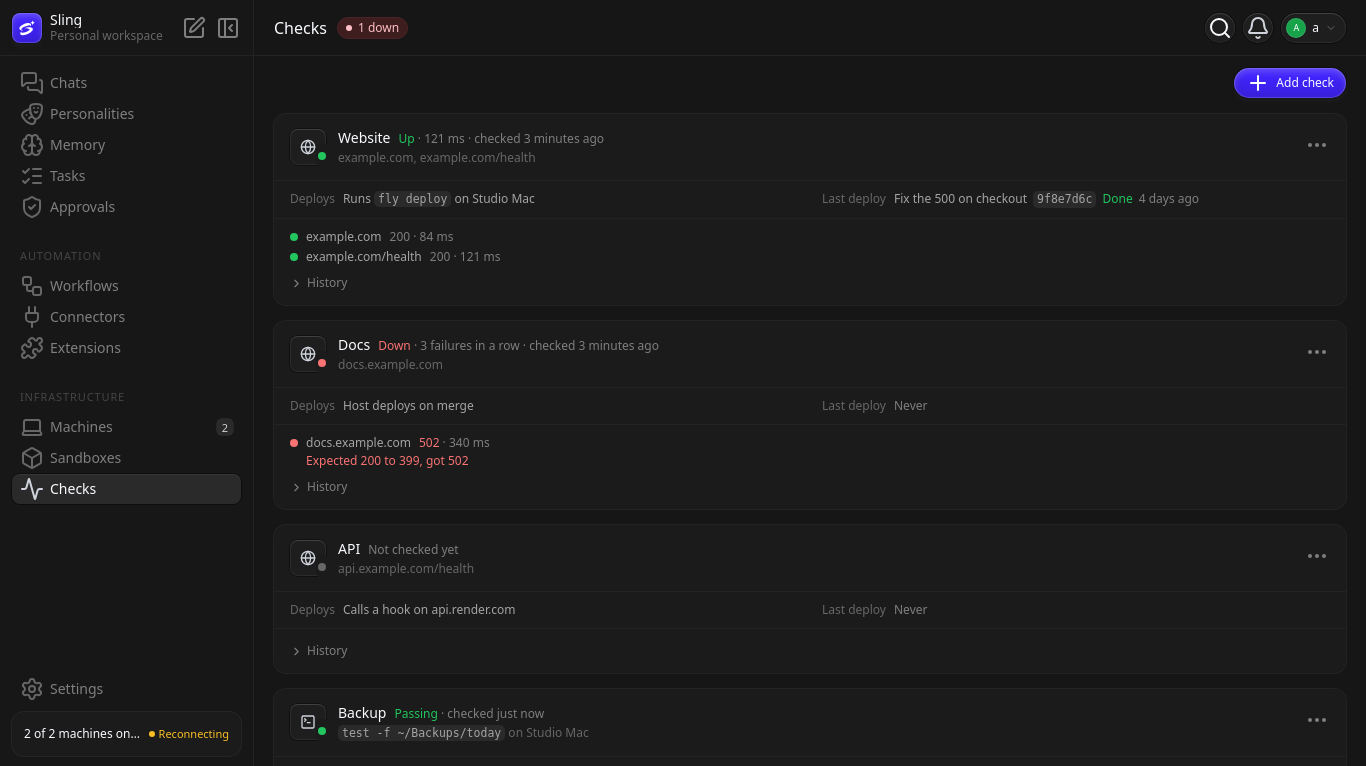
Scenario: checks page › pauses a check, and deletes one after asking
Click the button named "Backup actions" at (1317, 720), box [1304,708,1330,734]
(page scrolled)
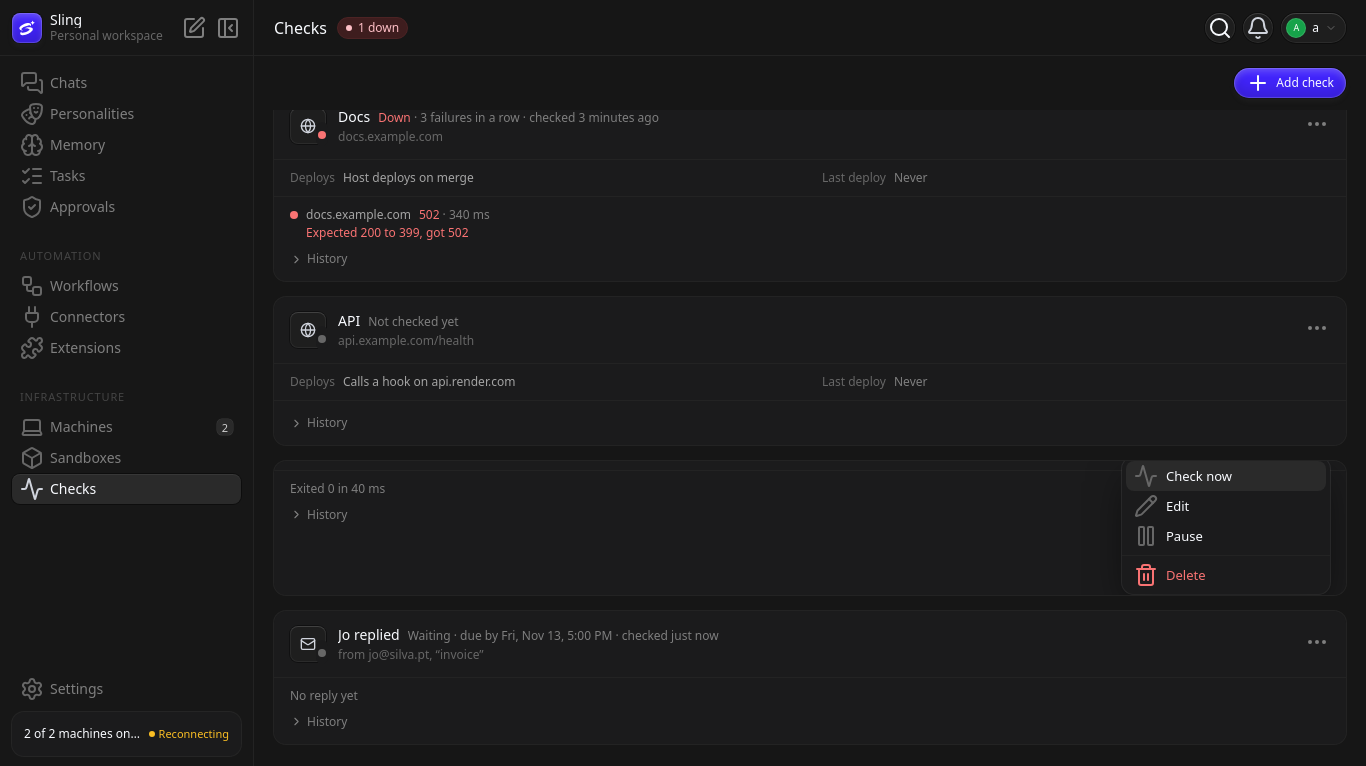
Click the menu item "Pause" at (1226, 536), box [1126,522,1326,552]
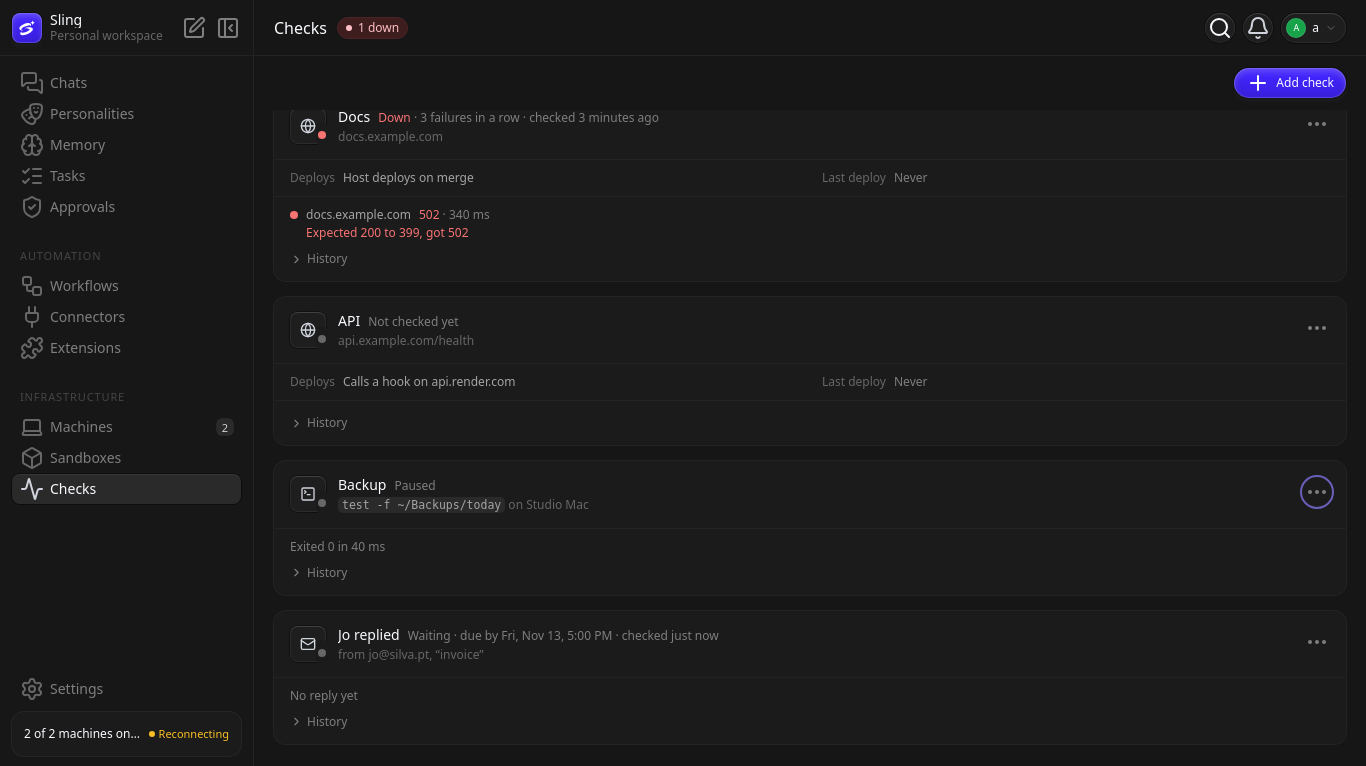
Now the text "Paused" is shown, box [394,478,436,494]
Click the button named "Docs actions" at (1317, 124), box [1304,111,1330,137]
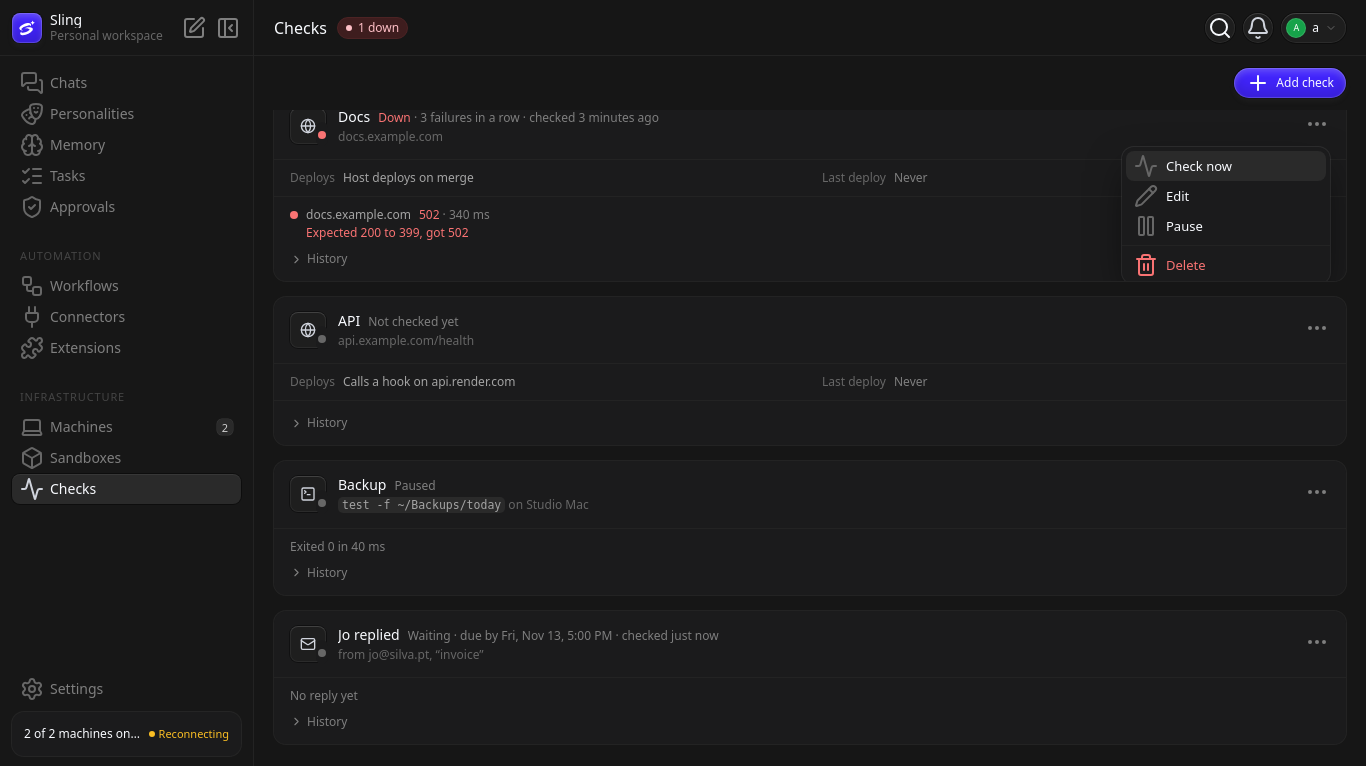
Click the menu item "Delete" at (1226, 265), box [1126,250,1326,280]
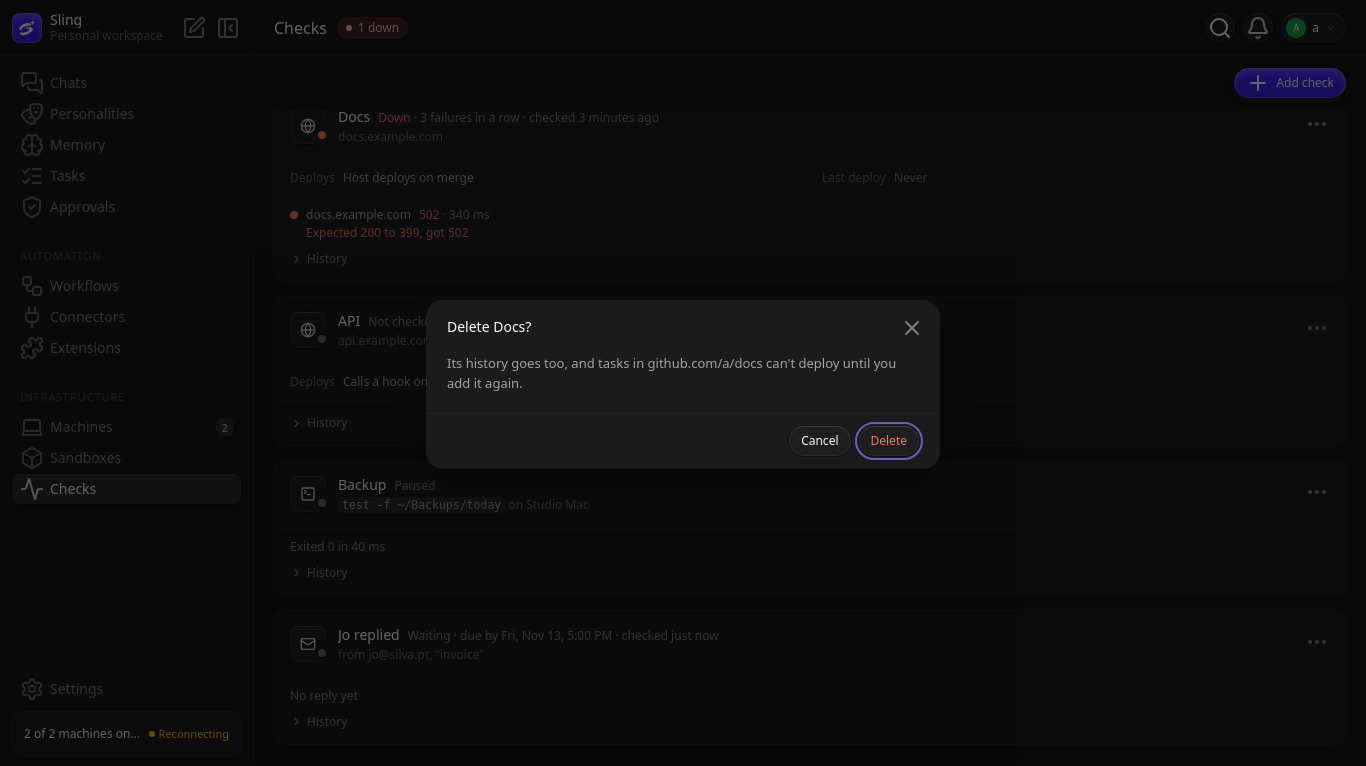
Now the text "tasks in github.com/a/docs can't deploy" is shown, box [447,354,896,392]
Click the button "Delete" at (889, 440), box [858,426,919,456]
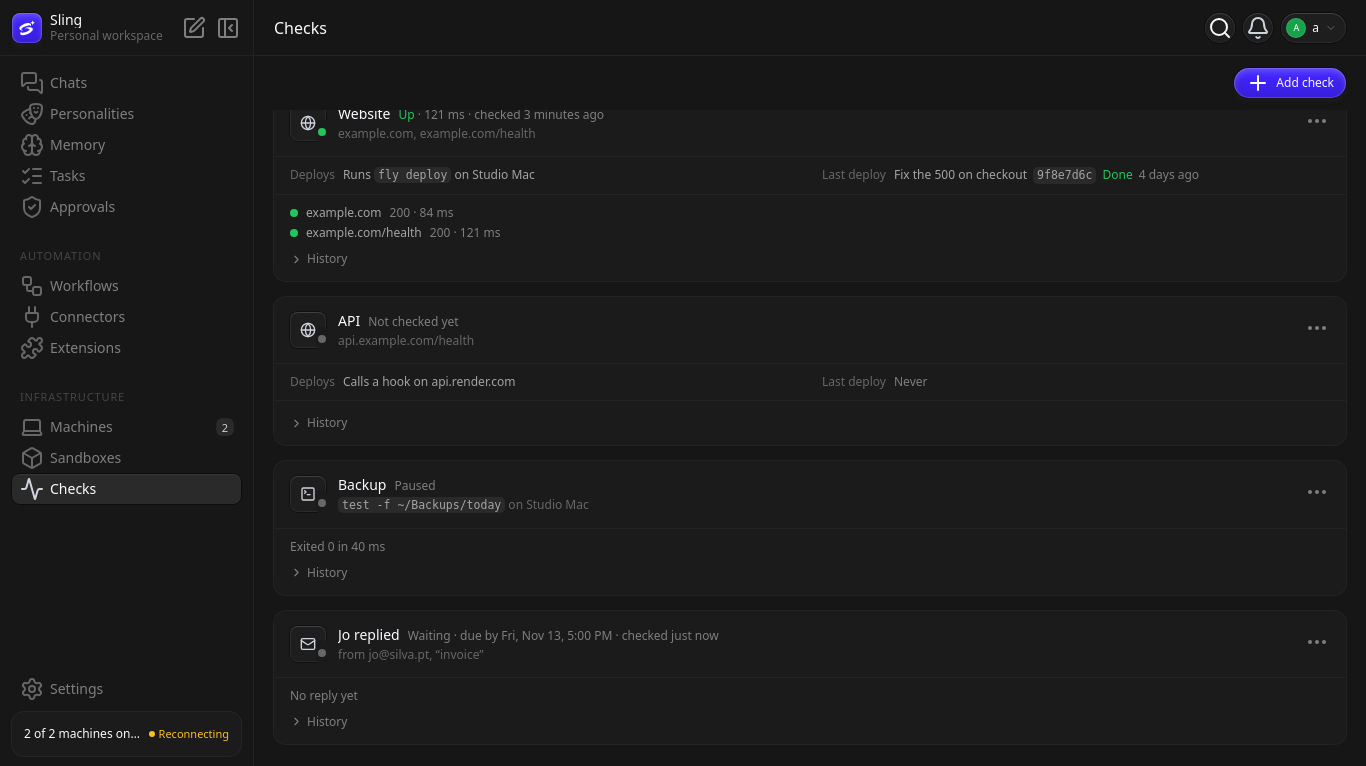
Now the text "Docs" is gone
